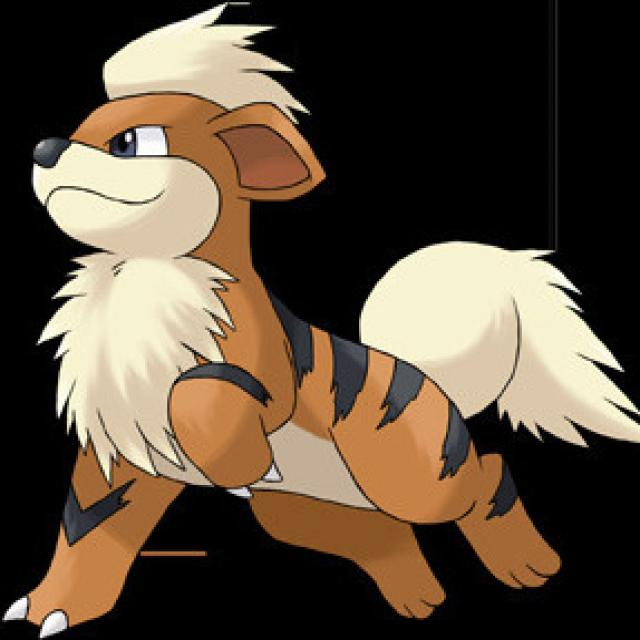Growlithe: (19, 73, 579, 618)
